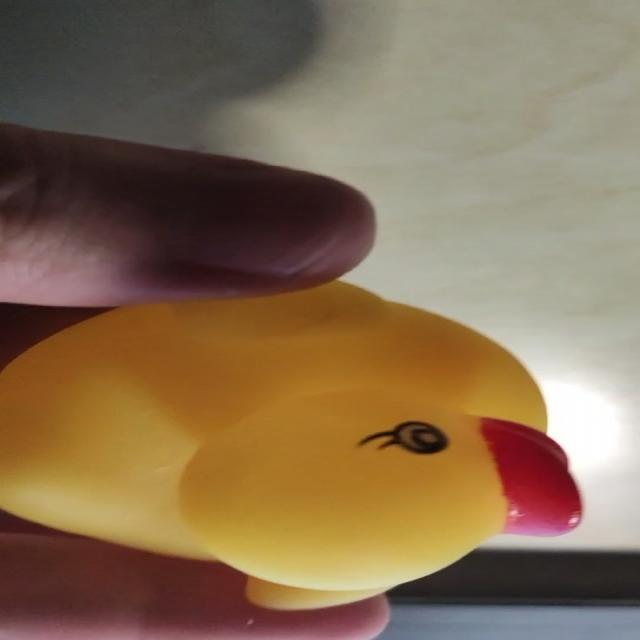rubber-duck: (0, 280, 580, 603)
